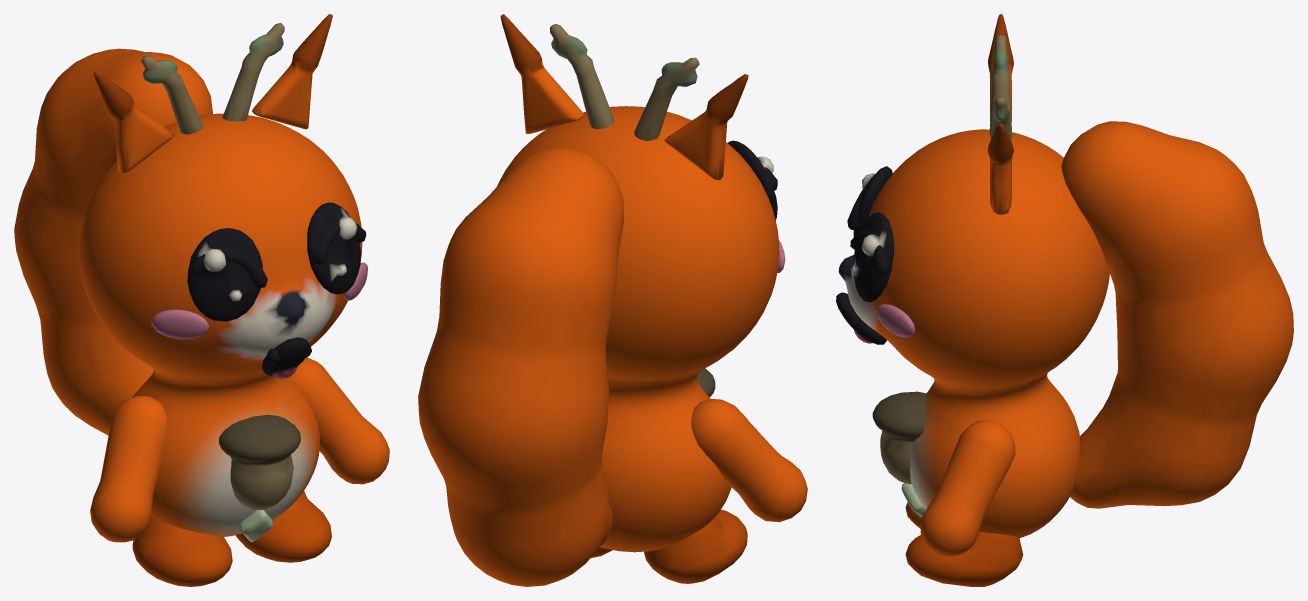
Rendered from grenspringer.glb.
3 views of the same model, side by side, from view 1: azimuth 30°, elevation 25°; view 2: azimuth 150°, elevation 25°; view 3: azimuth 270°, elevation 25° (orthographic). The views are drawn at different scales.
Parts seen in each view (by area): view 1: body_mesh, tail_mesh, arm_L_mesh, arm_R_mesh, acorn, foot_L_mesh, eye_L, twigs, ear_R, foot_R_mesh, eye_R, ear_L (+5 smaller); view 2: tail_mesh, body_mesh, arm_L_mesh, twigs, foot_L_mesh, ear_R, ear_L, eye_L; view 3: tail_mesh, body_mesh, arm_R_mesh, foot_R_mesh, acorn, eye_R, ear_R, twigs, eye_L, cheek_R, mouth_open, ear_L (+1 smaller).
Part boxes in pixels (<box>): body_mesh: <box>79,113,362,536</box>; tail_mesh: <box>14,48,212,435</box>; arm_L_mesh: <box>90,395,166,542</box>; arm_R_mesh: <box>290,357,389,484</box>; acorn: <box>219,414,300,509</box>; foot_L_mesh: <box>132,517,232,586</box>; eye_L: <box>187,228,262,321</box>; twigs: <box>141,23,284,134</box>; ear_R: <box>252,14,332,129</box>; foot_R_mesh: <box>235,491,331,562</box>; eye_R: <box>307,202,360,294</box>; ear_L: <box>93,71,174,174</box>; tail_mesh: <box>418,147,623,586</box>; body_mesh: <box>497,106,779,552</box>; arm_L_mesh: <box>691,399,807,522</box>; twigs: <box>550,24,699,140</box>; foot_L_mesh: <box>644,509,747,583</box>; ear_R: <box>500,14,584,133</box>; ear_L: <box>664,74,748,180</box>; eye_L: <box>728,140,777,220</box>; tail_mesh: <box>1061,121,1293,508</box>; body_mesh: <box>838,129,1109,538</box>; arm_R_mesh: <box>920,420,1015,556</box>; foot_R_mesh: <box>905,532,1023,586</box>; acorn: <box>872,391,926,484</box>; eye_R: <box>851,212,893,302</box>; ear_R: <box>987,123,1013,214</box>; twigs: <box>989,34,1012,158</box>; eye_L: <box>853,166,892,237</box>; cheek_R: <box>876,304,915,337</box>; mouth_open: <box>836,292,886,344</box>; ear_L: <box>988,14,1013,121</box>.
Bounding box in the file's own units: 0.3436 × 0.5814 × 0.4881.
